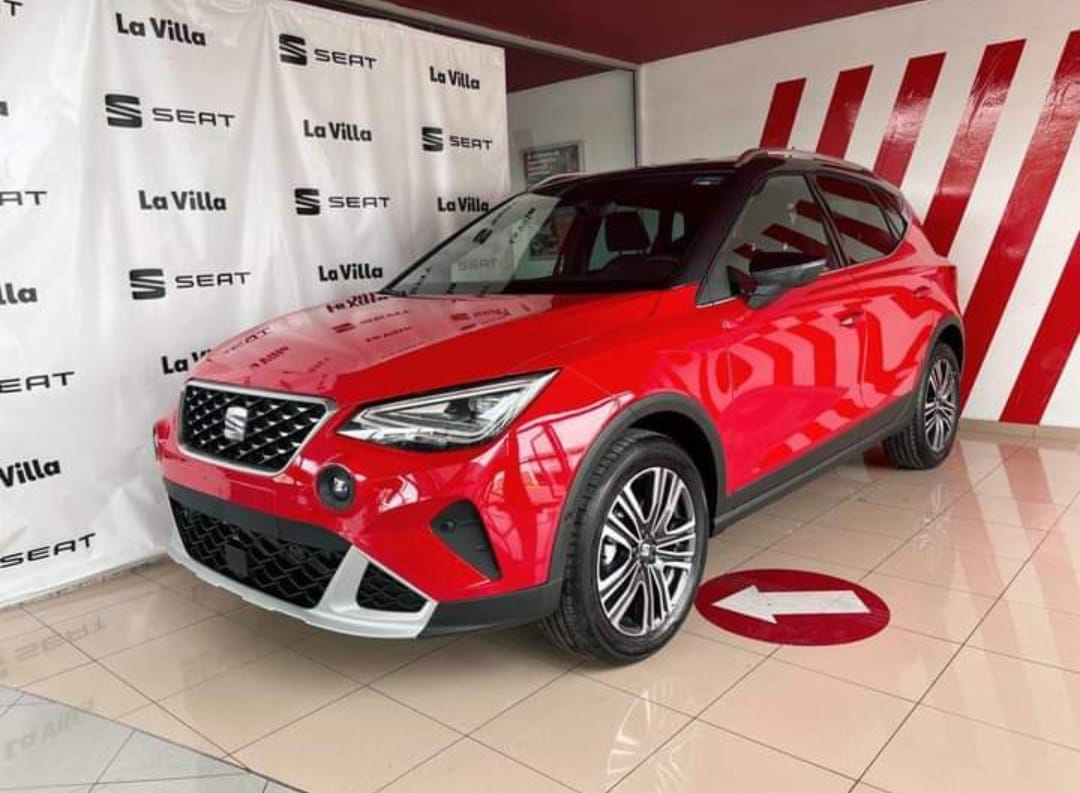Auto: (147, 146, 971, 669)
